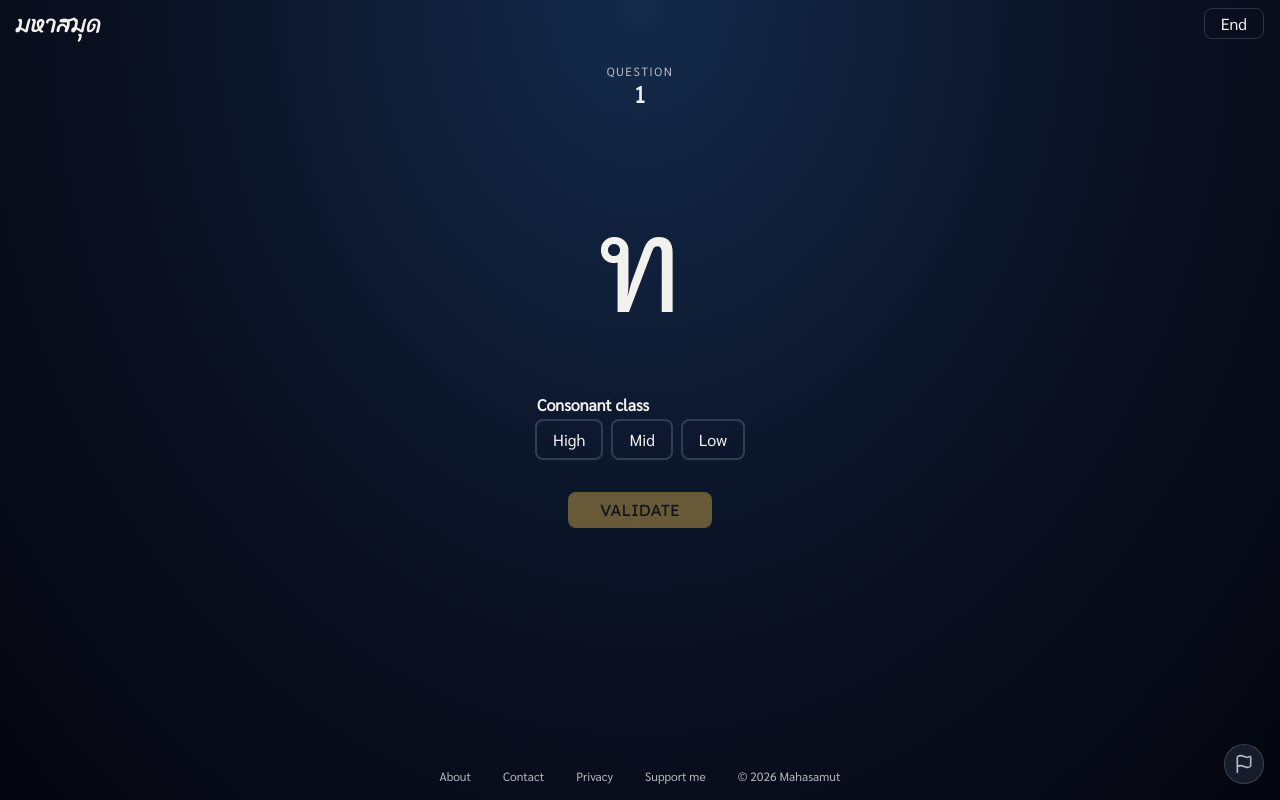
Test: SiteFooter › asks before leaving a game for the contact page, like the logo
The image size is (1280, 800).
Click the radio button labelled "High" at [569, 439], box [535, 419, 604, 460]
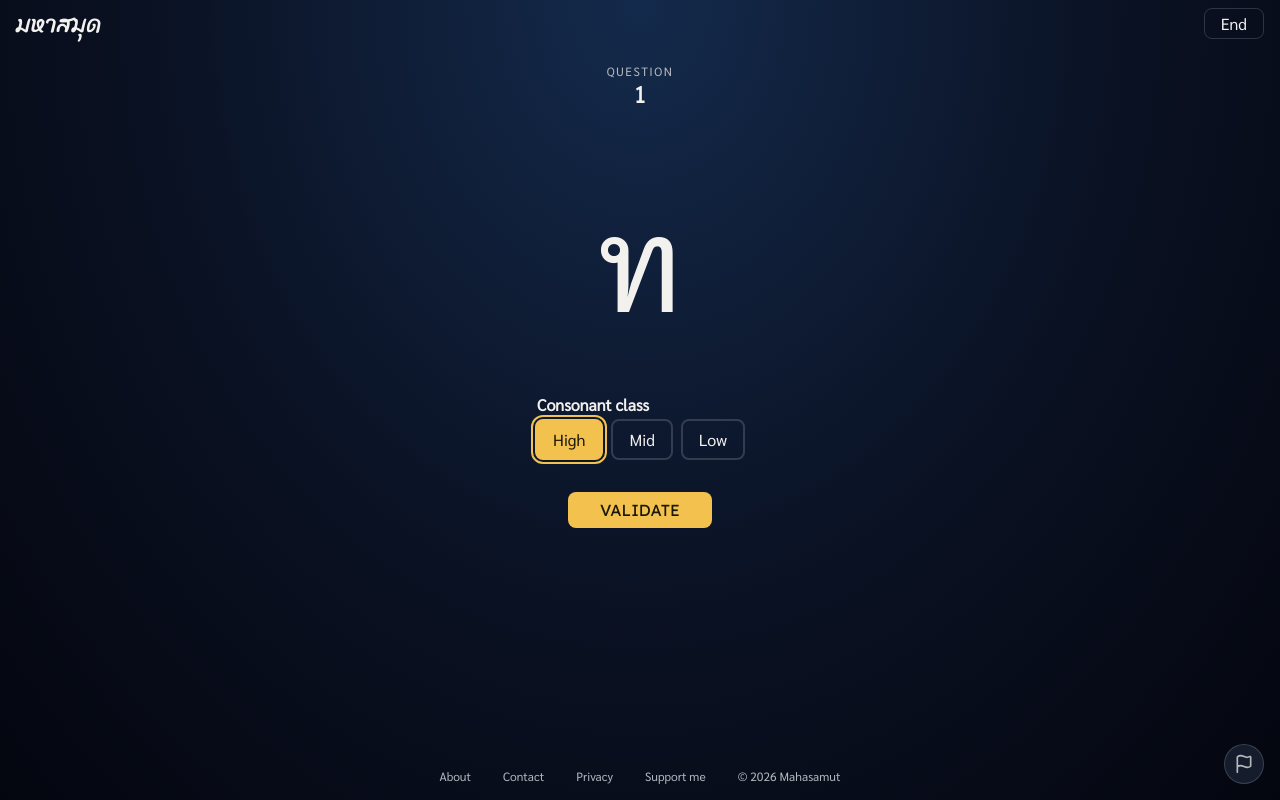
Click the button "Validate" at [640, 510], box [568, 492, 712, 528]
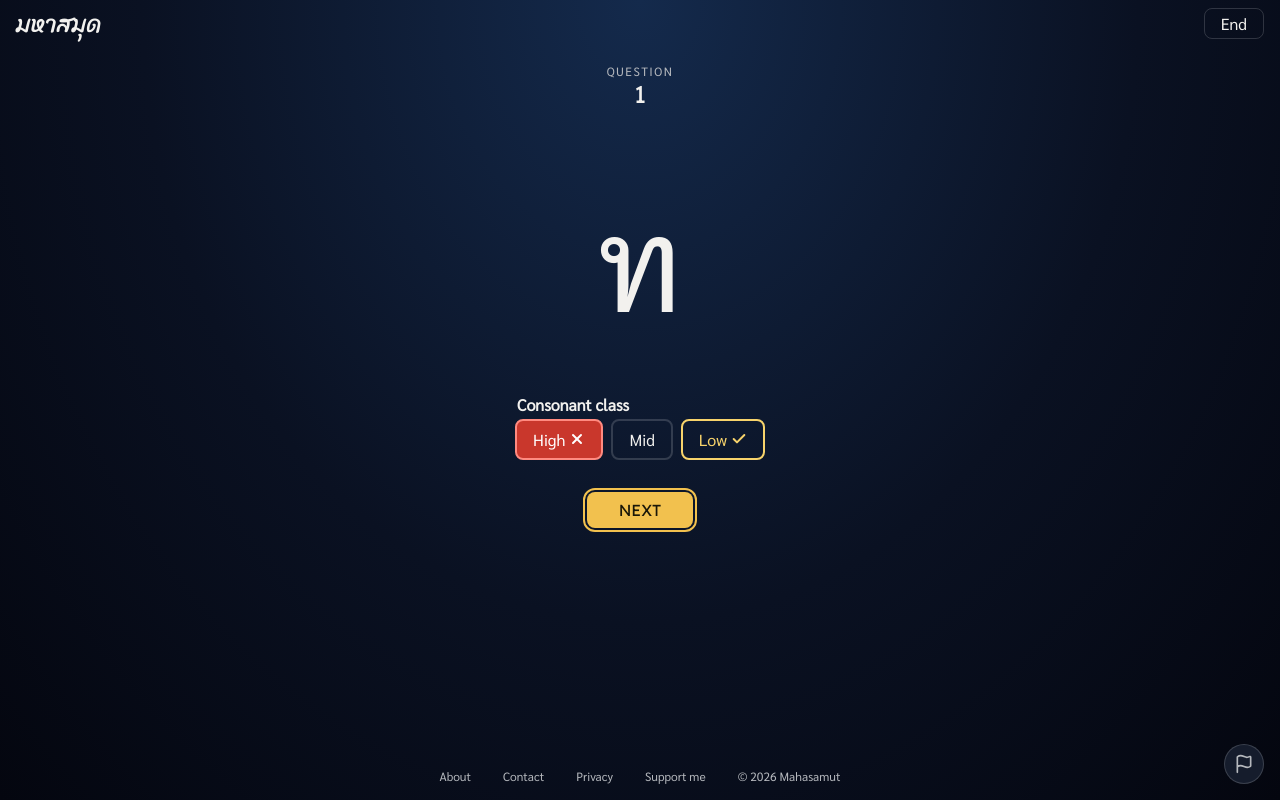
Click the link "Contact" at [524, 776], box [503, 768, 544, 784]
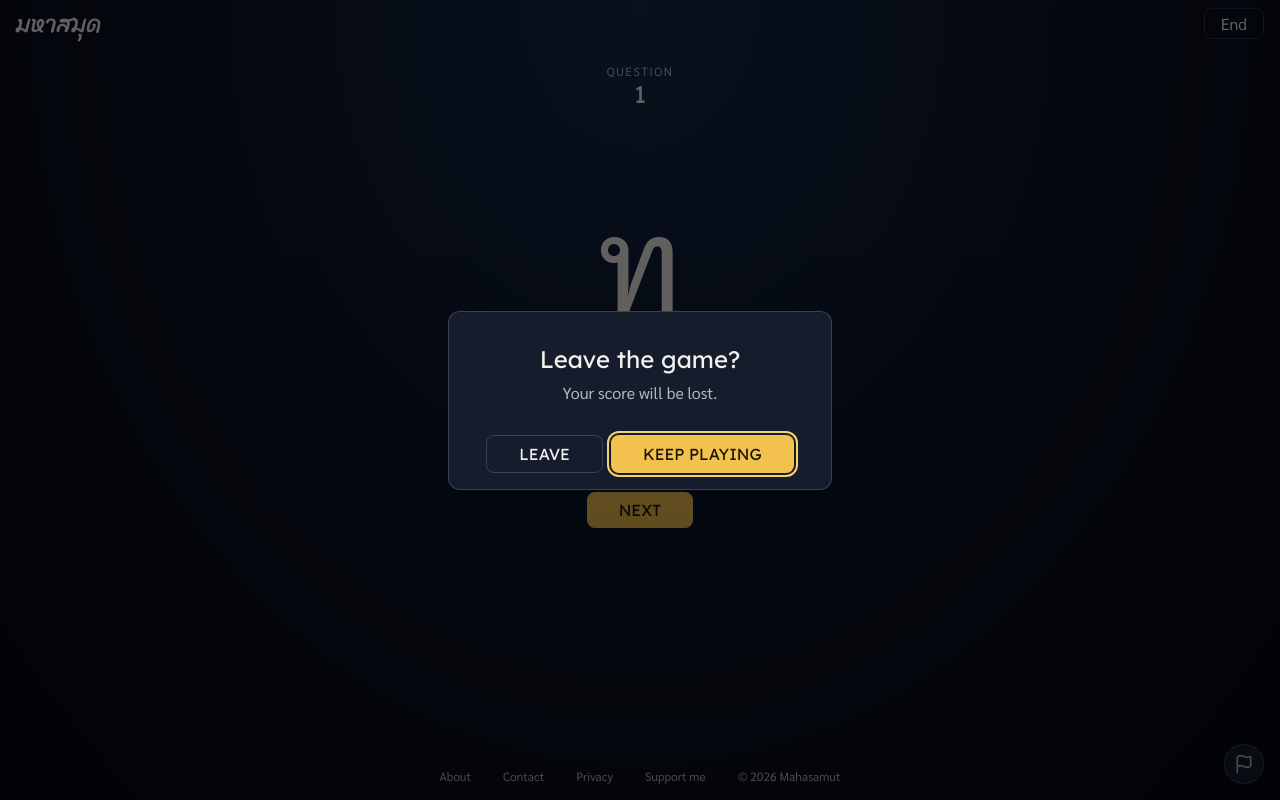
Expected: the dialog "Leave the game?" is shown, [448, 310, 832, 490]
Click the button "Leave" at [545, 454], box [486, 434, 603, 472]
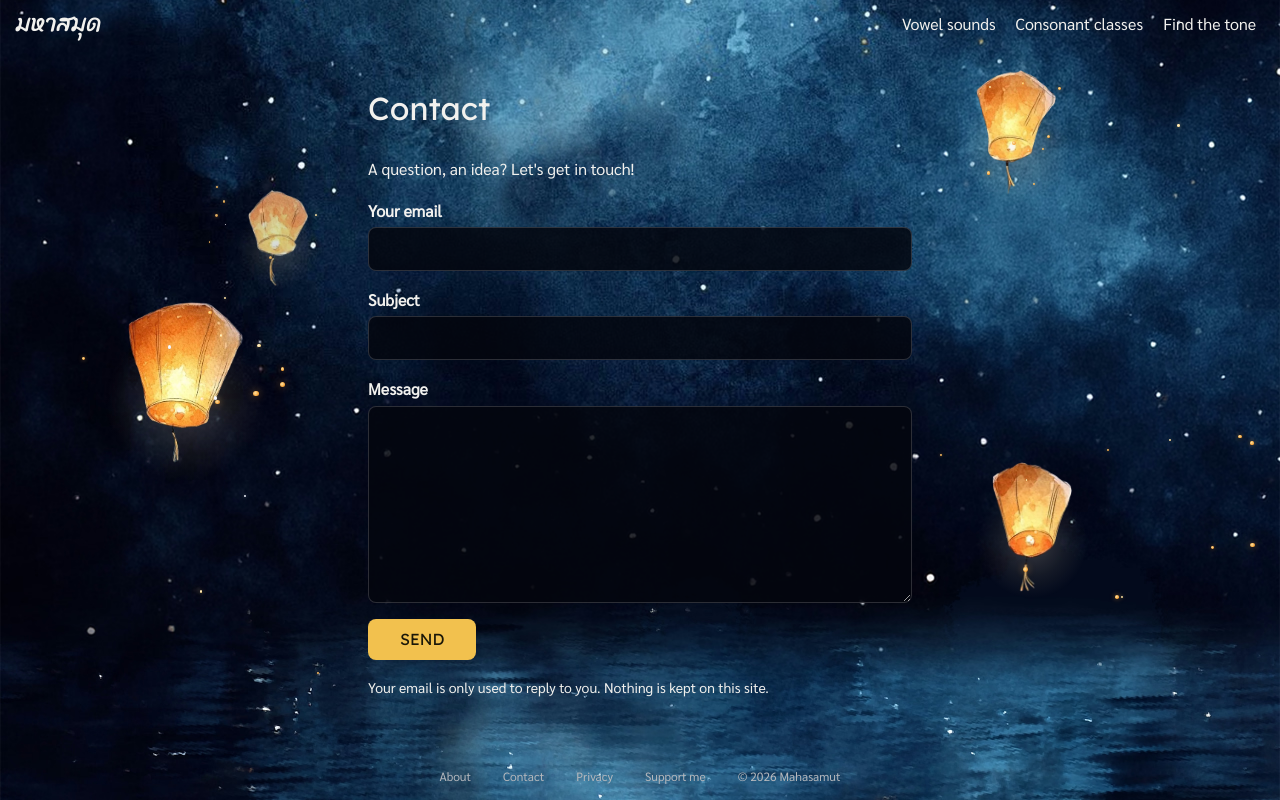
Expected: the heading "Contact" is shown, [368, 88, 490, 128]
